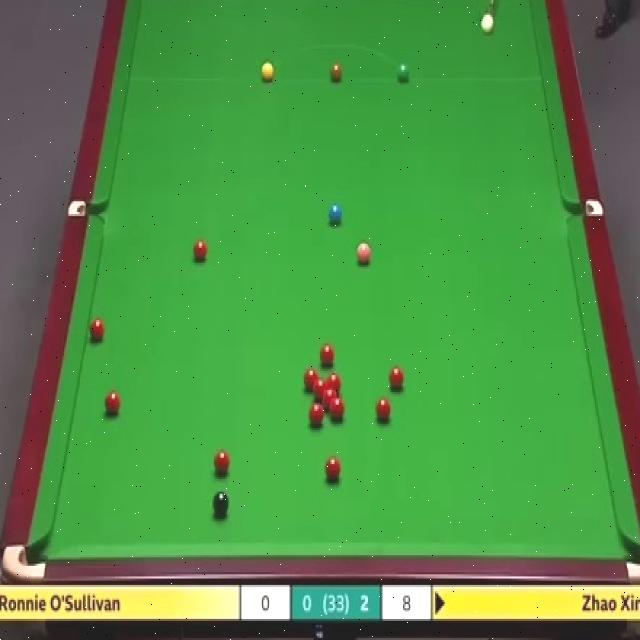black-ball: (212, 490, 232, 514)
blue-ball: (328, 201, 343, 228)
brown-ball: (329, 62, 343, 82)
green-ball: (396, 62, 411, 81)
pink-ball: (356, 243, 372, 267)
red-ball: (88, 317, 108, 345), (324, 455, 342, 483), (302, 365, 320, 392), (102, 388, 120, 415), (386, 366, 406, 390), (374, 397, 392, 423), (318, 343, 337, 366), (328, 399, 346, 423), (214, 449, 231, 474), (308, 401, 324, 427), (327, 374, 342, 398), (313, 379, 329, 401), (192, 242, 208, 260), (322, 390, 336, 408)
white-ball: (480, 10, 496, 36)
yellow-ball: (260, 62, 275, 82)
